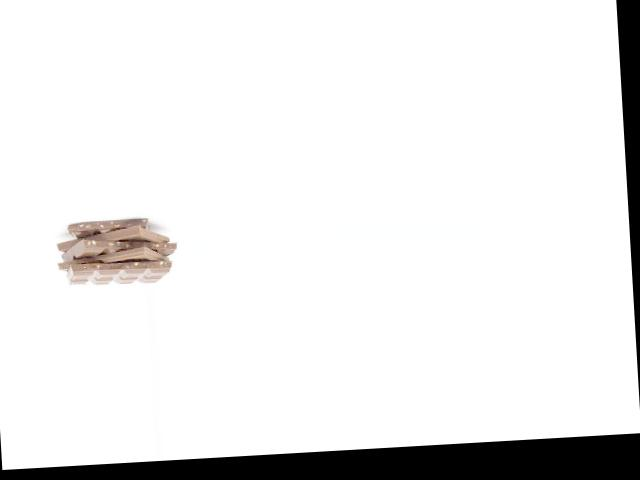chocolate: (57, 210, 169, 261)
